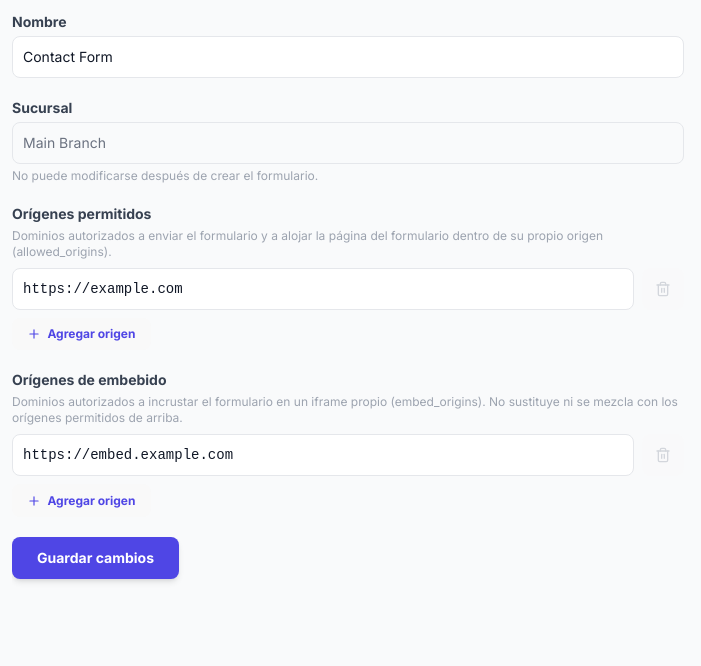
GeneralTab — 409 must-be-paused and 422 handling › shows a clear message for 409 PUBLIC_LEAD_FORM_MUST_BE_PAUSED
Click the button "Guardar cambios": [96, 558] box left=12, top=537, right=179, bottom=579
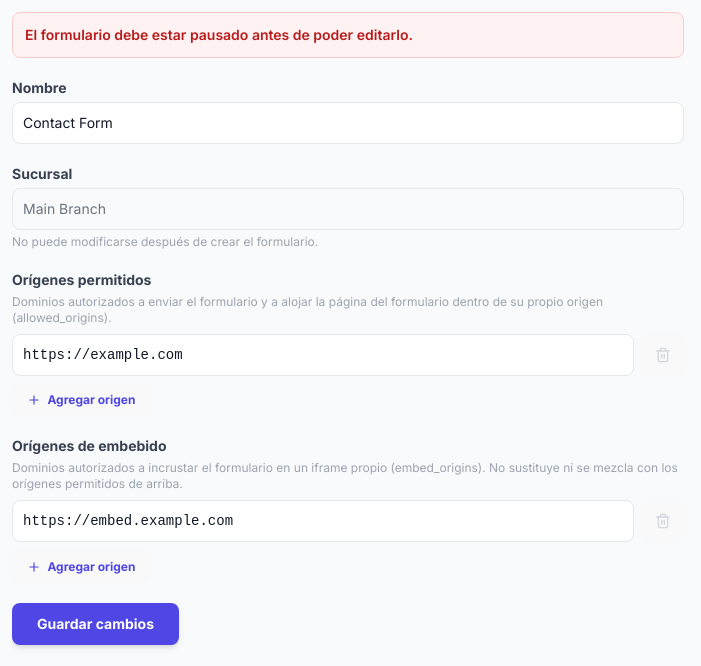
Expected: the message shows "debe estar pausado", left=25, top=26, right=413, bottom=43
